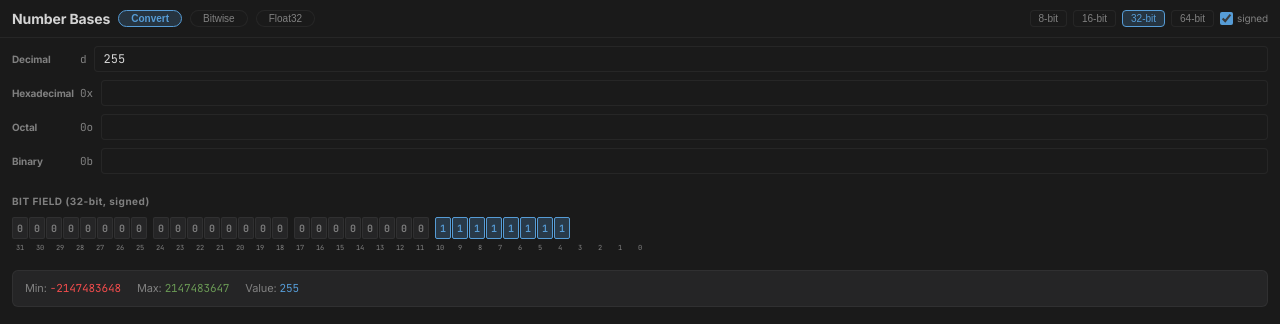
Test: NumberBasePanel — Convert tab (UI) › switching to 8-bit shows 8-bit min/max range
The width and height of the screenshot is (1280, 324).
Click the button "8-bit": (1048, 18) [1030,10,1067,27]
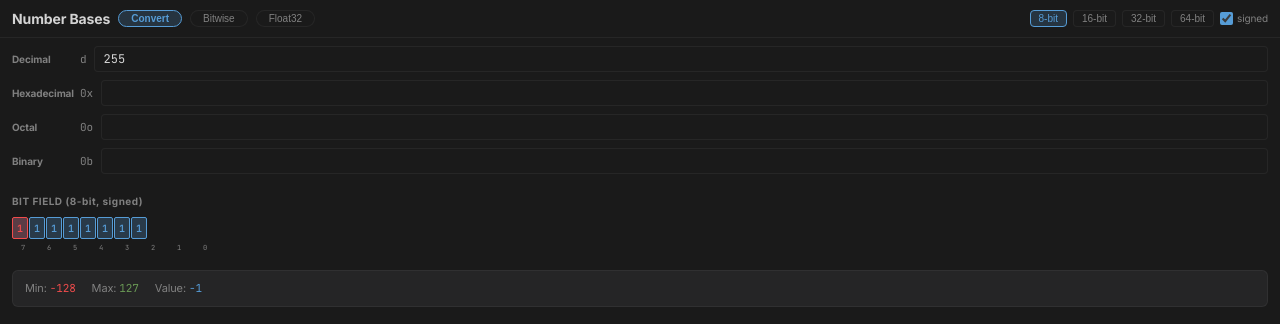
Result: the text "127" is shown at [119,280,139,294]
